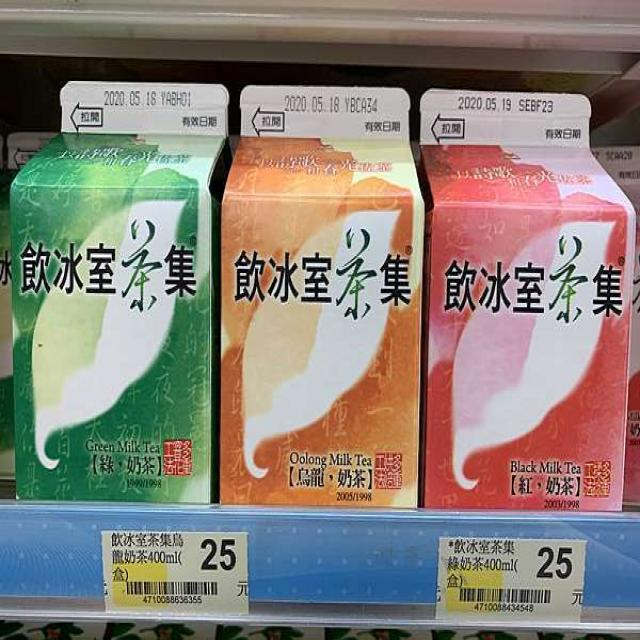non_white_jug: (406, 77, 638, 547), (10, 70, 224, 533), (212, 64, 425, 519)
